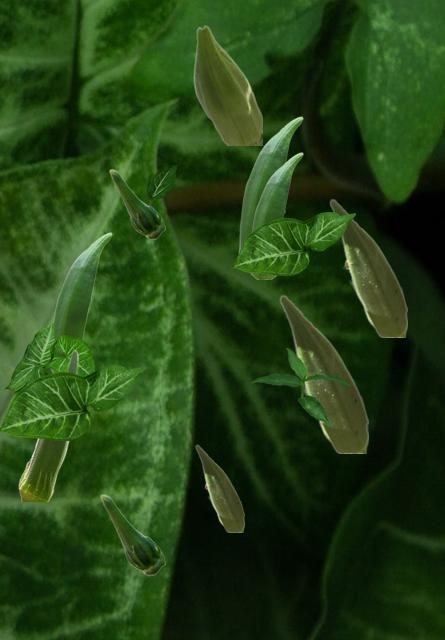okra: (279, 294, 367, 452), (329, 198, 406, 336), (18, 349, 77, 500), (238, 116, 302, 252), (50, 232, 111, 372), (193, 25, 261, 144), (250, 152, 302, 278), (100, 494, 164, 574), (195, 444, 243, 531), (109, 169, 164, 238)
